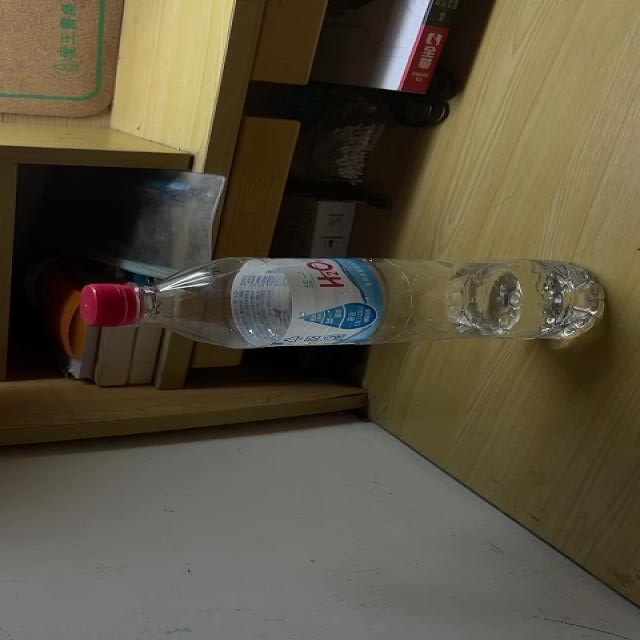Water: (83, 256, 604, 348)
